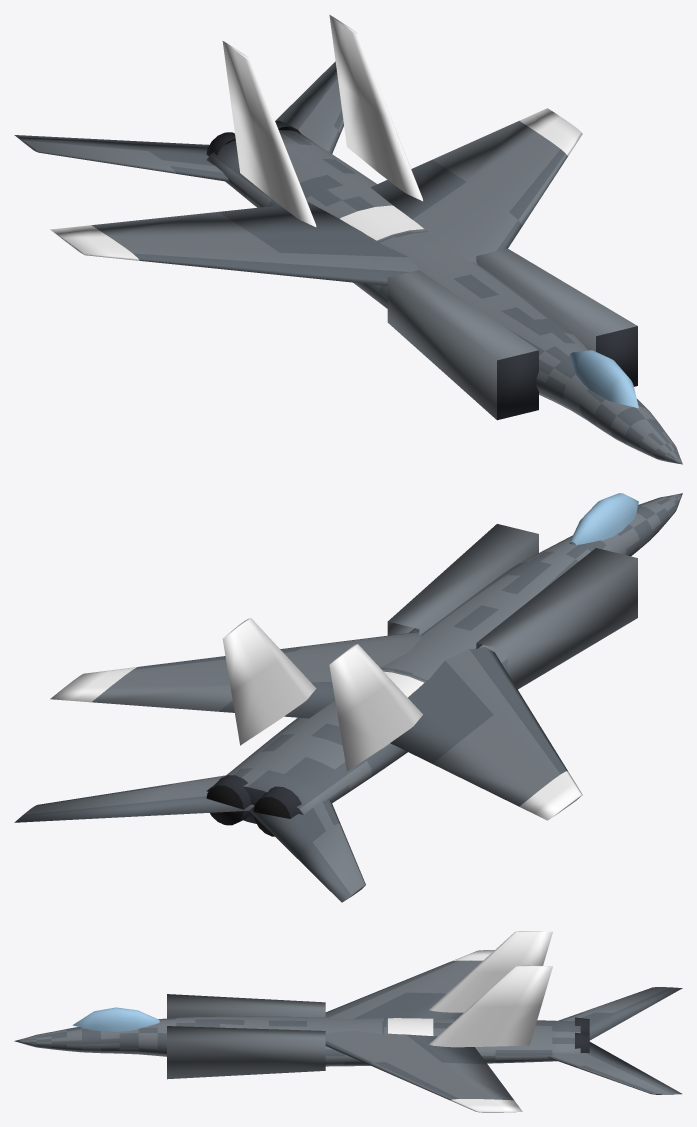
The picture shows the model from 3 angles, top to bottom: view 1: azimuth 30°, elevation 25°; view 2: azimuth 150°, elevation 25°; view 3: azimuth 270°, elevation 25°; orthographic projection. The views are drawn at different scales.
Parts seen in each view (by area): view 1: body; view 2: body; view 3: body.
Boxes of the visible parts, x1,y1,x2,y2 form: body: (14,14,682,464); body: (14,493,682,902); body: (14,931,682,1112).
Size of the model in its own units: 13.05 by 4.16 by 22.93.
